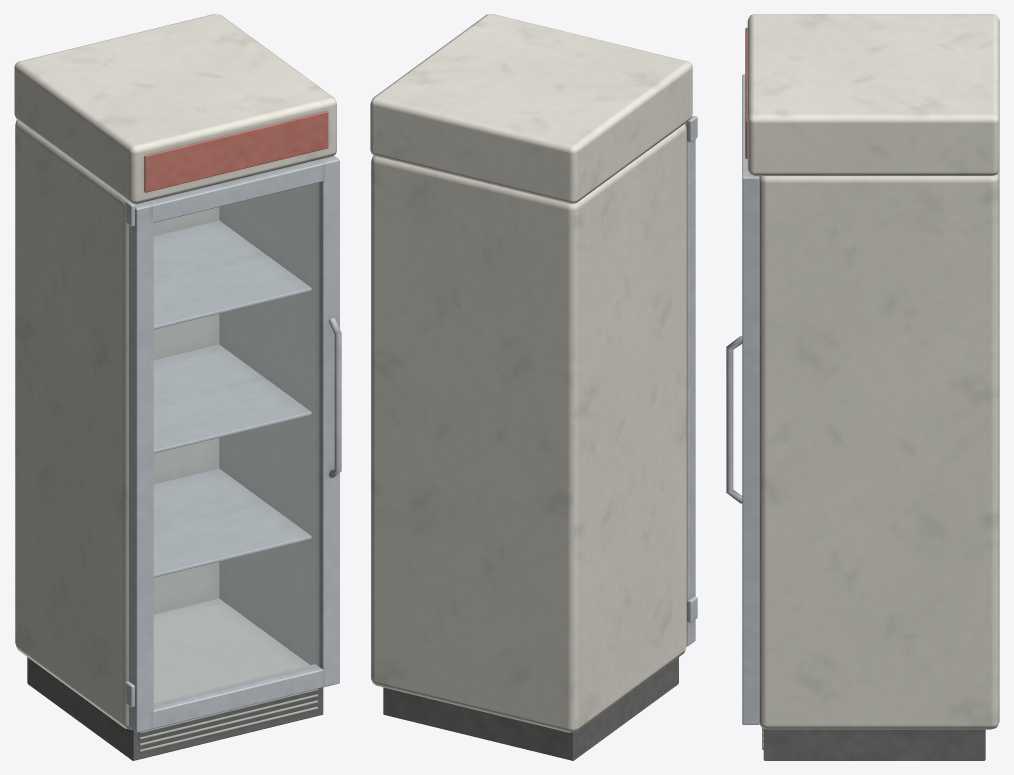
File: Shop_Fridge.fbx
3 views of the same model, side by side, from view 1: azimuth 30°, elevation 25°; view 2: azimuth 150°, elevation 25°; view 3: azimuth 270°, elevation 25° (orthographic). The views are drawn at different scales.
Visible parts, largest first — view 1: Shop_Fridge; view 2: Shop_Fridge; view 3: Shop_Fridge.
Part boxes in pixels (<box>): Shop_Fridge: <box>14,14,341,760</box>; Shop_Fridge: <box>370,14,697,760</box>; Shop_Fridge: <box>726,14,999,760</box>.
Bounding box in the file's own units: 0.706 × 2 × 0.7649.
